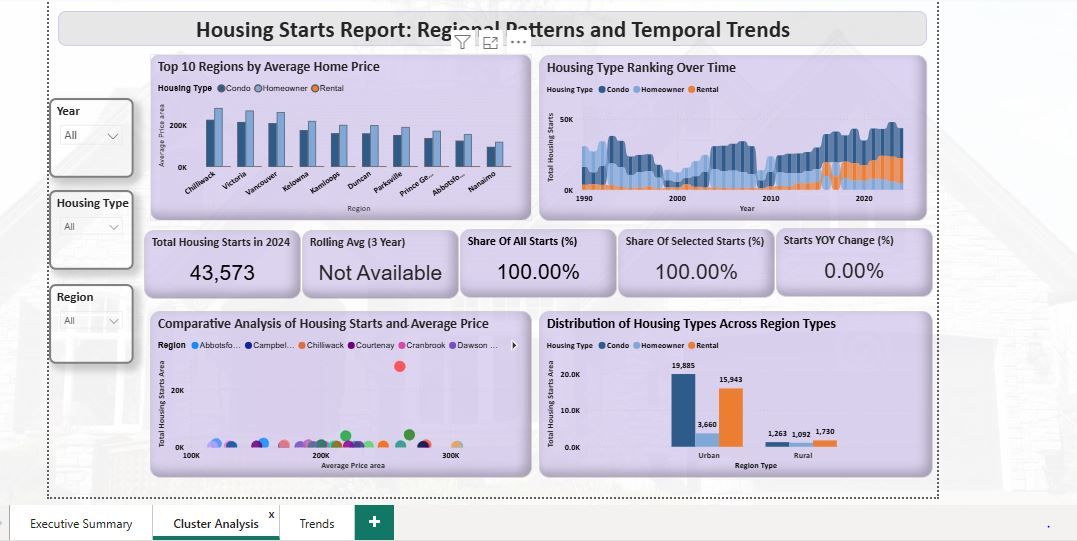

The page's visual inventory and layout, read from the dashboard file:
{"tool":"powerbi","page":{"name":"Cluster Analysis","canvas":[1280,720],"ordinal":1},"visuals":[{"type":"slicer","title":"Housing Type","fields":{"Values":["Dim Housing Type.Housing Type"]},"box":[0,277.9,122.4,115.2],"z":0},{"type":"slicer","title":"Year","fields":{"Values":["Date Table.Year"]},"box":[0,145.4,122.4,115.2],"z":1000},{"type":"slicer","title":"Region","fields":{"Values":["Region.Region"]},"box":[0,413.3,122.4,115.2],"z":2000},{"type":"shape","box":[13,20.2,1251.4,50.4],"z":3000},{"type":"clusteredColumnChart","title":"Top 10 Regions by Average Home Price","fields":{"Category":["Region.Region"],"Series":["Dim Housing Type.Housing Type"],"Y":["Measure Table.Average Price"]},"box":[145.4,82.1,550,240.5],"z":4000},{"type":"card","title":"Rolling Avg (3 Year)","fields":{"Values":["Measure Table.Rolling Avg 3 Year Display"]},"box":[364.3,336,226.1,99.4],"z":5000},{"type":"card","title":"Share Of All Starts (%)","fields":{"Values":["Measure Table.Share of All Starts (%)"]},"box":[591.8,334.5,226.1,99.4],"z":6000},{"type":"card","title":"Share Of Selected Starts (%)","fields":{"Values":["Measure Table.Share of Selected Starts (%)"]},"box":[819.4,334.5,226.1,99.4],"z":7000},{"type":"card","title":"Starts YOY Change (%)","fields":{"Values":["Measure Table.Starts YoY Change (%)"]},"box":[1046.9,333.1,226.1,99.4],"z":8000},{"type":"scatterChart","title":"Comparative Analysis of Housing Starts and َAverage Price","fields":{"Y":["Measure Table.Total Housing Starts Area"],"Series":["Region.Region"],"X":["Measure Table.Average Price"]},"box":[145.4,452.2,550.1,240.5],"z":9000},{"type":"card","title":"Total Housing Starts in 2024","fields":{"Values":["Measure Table.Total Starts 2024"]},"box":[136.8,335.5,226.1,99.4],"z":10000},{"type":"ribbonChart","title":"Housing Type Ranking Over Time","fields":{"Category":["Date Table.Year"],"Y":["Measure Table.Total Housing Starts"],"Series":["Dim Housing Type.Housing Type"]},"box":[705.6,83.5,558.7,239],"z":13000},{"type":"clusteredColumnChart","title":"Distribution of Housing Types Across Region Types","fields":{"Category":["Region Type.Region Type"],"Series":["Dim Housing Type.Housing Type"],"Y":["Measure Table.Total Housing Starts Area"]},"box":[705.6,452.2,567.4,240.5],"z":14000}]}

Visuals, with their boxes on the page's 1280x720 design canvas (x1, y1, x2, y2). These are canvas units, not pixel positions in the 1077x541 screenshot, which may show the page scaled, cropped or inside an application window:
"Housing Type" slicer: <bbox>0, 278, 122, 393</bbox>
"Year" slicer: <bbox>0, 145, 122, 261</bbox>
"Region" slicer: <bbox>0, 413, 122, 528</bbox>
shape: <bbox>13, 20, 1264, 71</bbox>
"Top 10 Regions by Average Home Price" clusteredColumnChart: <bbox>145, 82, 695, 323</bbox>
"Rolling Avg (3 Year)" card: <bbox>364, 336, 590, 435</bbox>
"Share Of All Starts (%)" card: <bbox>592, 334, 818, 434</bbox>
"Share Of Selected Starts (%)" card: <bbox>819, 334, 1046, 434</bbox>
"Starts YOY Change (%)" card: <bbox>1047, 333, 1273, 432</bbox>
"Comparative Analysis of Housing Starts and َAverage Price" scatterChart: <bbox>145, 452, 696, 693</bbox>
"Total Housing Starts in 2024" card: <bbox>137, 336, 363, 435</bbox>
"Housing Type Ranking Over Time" ribbonChart: <bbox>706, 84, 1264, 322</bbox>
"Distribution of Housing Types Across Region Types" clusteredColumnChart: <bbox>706, 452, 1273, 693</bbox>
